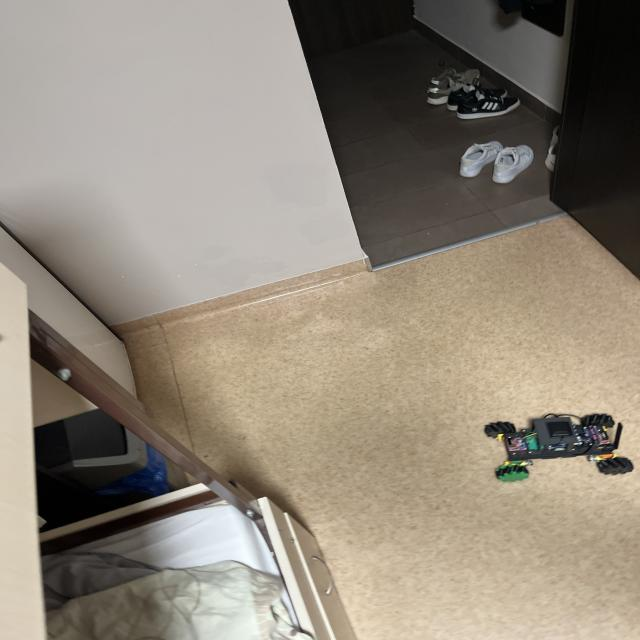robot: (484, 413, 633, 482)
